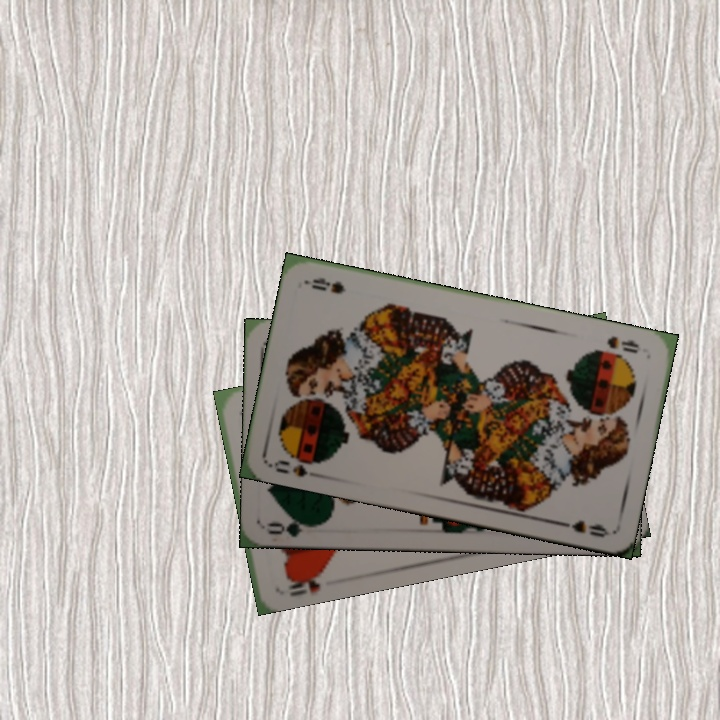GO: (265, 513, 324, 540)
HO: (282, 566, 327, 599)
SO: (267, 450, 328, 481), (603, 332, 642, 356)
